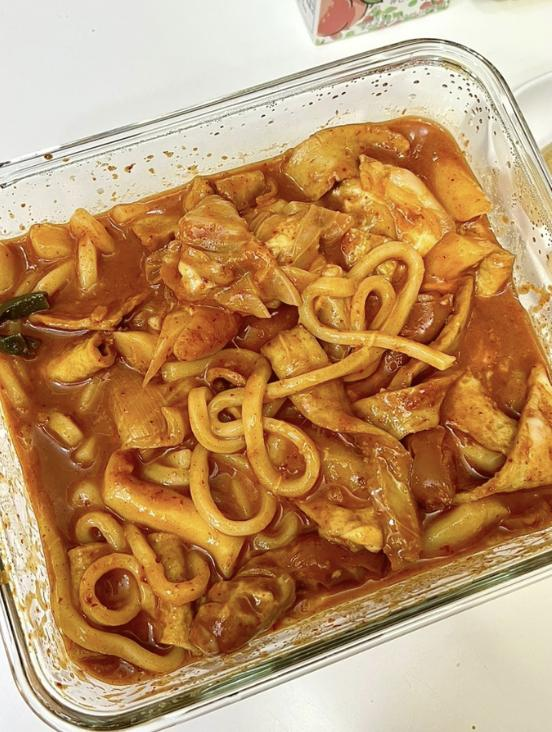Lunch Box: (0, 40, 551, 731)
